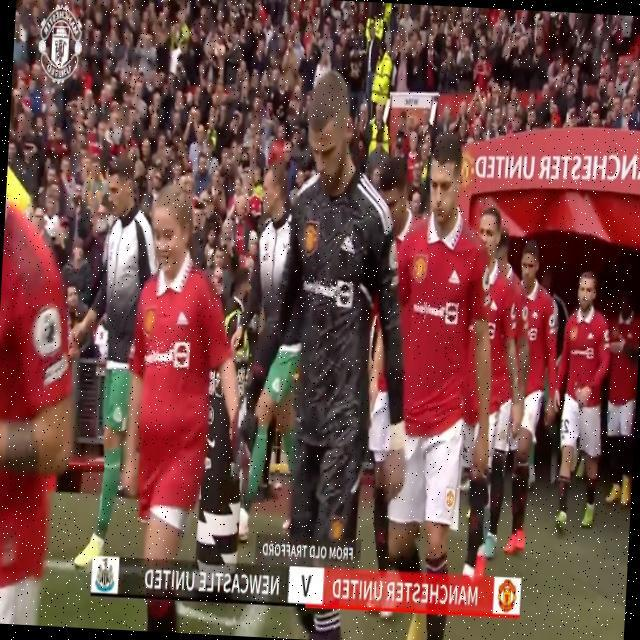Adidas: (340, 232, 356, 257), (176, 309, 190, 330), (447, 269, 461, 289)
TeamViewer: (301, 278, 355, 307), (145, 340, 190, 369), (411, 301, 459, 325)
